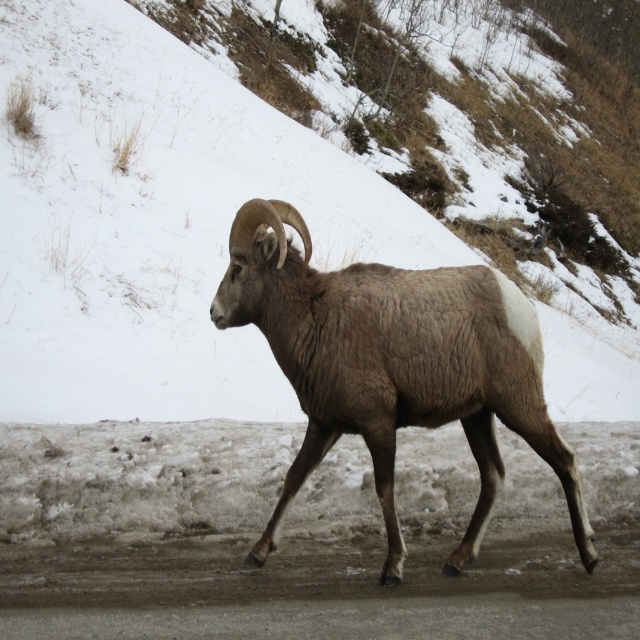Sheep: (210, 198, 604, 587)
